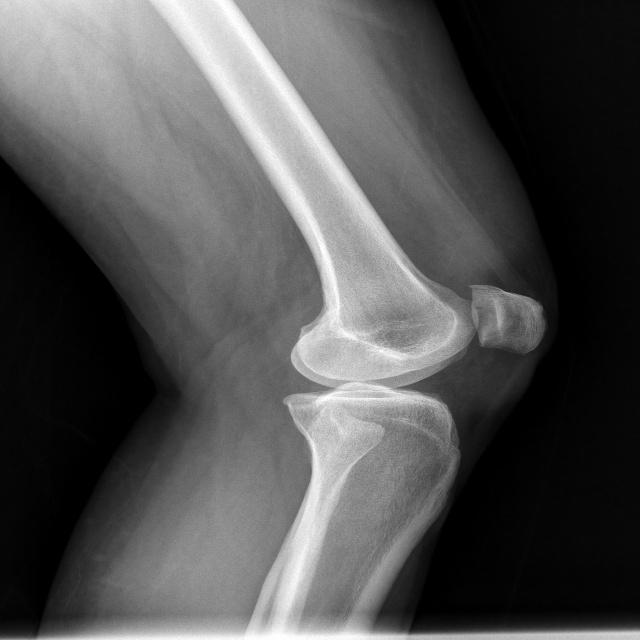Knee: (274, 282, 545, 448)
